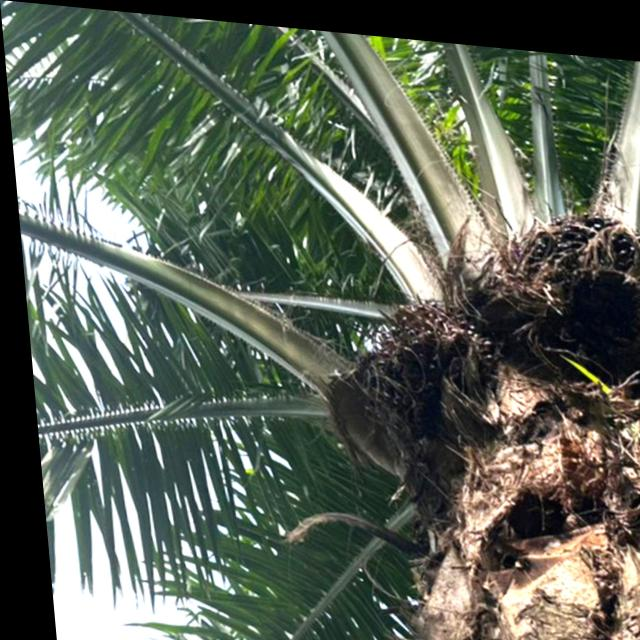ripe: (328, 275, 488, 439), (489, 188, 640, 344)
